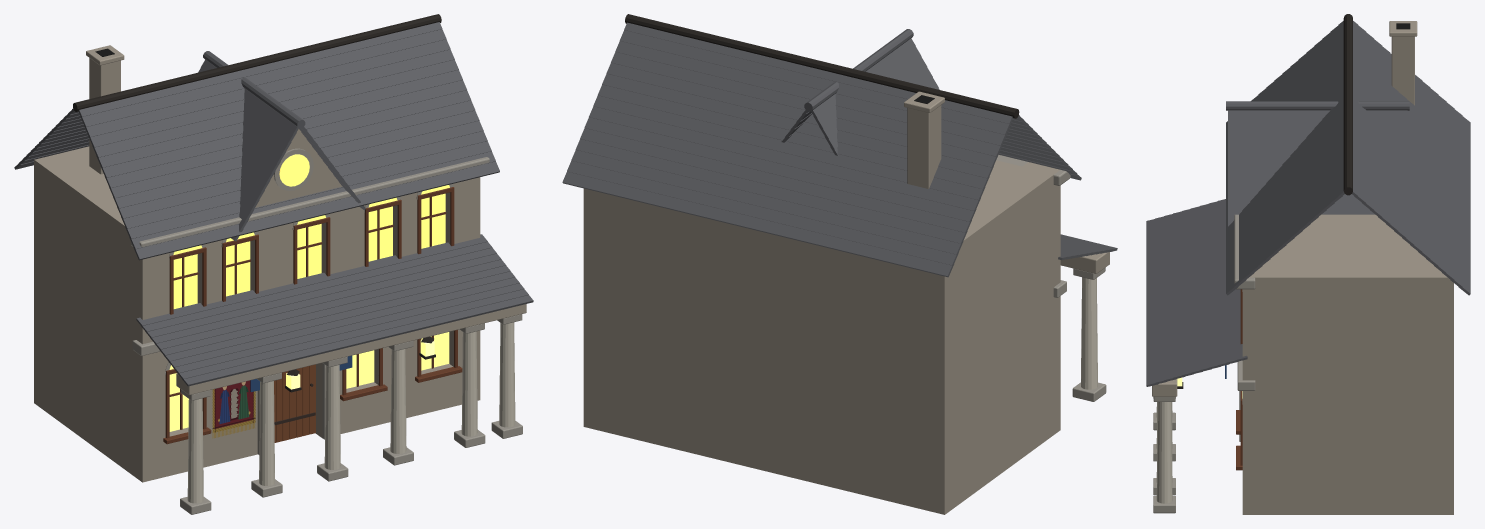
The model's file is concejo.glb.
3 renders of one model, left to right at view 1: azimuth 30°, elevation 25°; view 2: azimuth 150°, elevation 25°; view 3: azimuth 270°, elevation 25°, orthographic. The views are drawn at different scales.
Visible parts, largest first — view 1: conc_dentro, conc_tejado_s_0, conc_tejado_s_13, conc_tejado_s_12, conc_pb, conc_tejado_s_11, conc_tejado_s_10, conc_tejado_s_9, conc_tejado_s_8, conc_tejado_s_7, arquitrabe, conc_tejado_s_6 (+54 smaller); view 2: conc_dentro, conc_tejado_n_0, conc_tejado_n_5, conc_tejado_n_1, conc_tejado_n_3, conc_tejado_n_2, conc_tejado_n_4, conc_tejado_n_6, conc_tejado_n_7, conc_tejado_n_8, conc_tejado_n_13, conc_tejado_n_12 (+13 smaller); view 3: conc_dentro, conc_pb.011, conc_tejado_cumbrera, portico_tejado_7, portico_tejado_5, portico_tejado_6, conc_tejado_n_0, conc_tejado_n_1, conc_tejado_n_2, conc_tej_hastial_cumbrera, conc_tejado_n_3, conc_tejado_n_4 (+48 smaller).
Boxes of the visible parts, left/top/right/bottom form: conc_dentro: left=34, top=146, right=134, bottom=476; conc_tejado_s_0: left=133, top=161, right=499, bottom=260; conc_tejado_s_13: left=80, top=29, right=446, bottom=126; conc_tejado_s_12: left=84, top=39, right=450, bottom=137; conc_pb: left=135, top=351, right=168, bottom=482; conc_tejado_s_11: left=88, top=49, right=454, bottom=147; conc_tejado_s_10: left=92, top=59, right=458, bottom=157; conc_tejado_s_9: left=96, top=70, right=462, bottom=167; conc_tejado_s_8: left=100, top=80, right=466, bottom=177; conc_tejado_s_7: left=104, top=90, right=470, bottom=187; arquitrabe: left=176, top=304, right=526, bottom=395; conc_tejado_s_6: left=109, top=100, right=475, bottom=198; conc_dentro: left=583, top=162, right=1052, bottom=514; conc_tejado_n_0: left=562, top=171, right=954, bottom=277; conc_tejado_n_5: left=584, top=117, right=976, bottom=222; conc_tejado_n_1: left=567, top=160, right=958, bottom=265; conc_tejado_n_3: left=575, top=139, right=967, bottom=243; conc_tejado_n_2: left=571, top=150, right=962, bottom=254; conc_tejado_n_4: left=580, top=128, right=971, bottom=232; conc_tejado_n_6: left=589, top=106, right=980, bottom=210; conc_tejado_n_7: left=593, top=95, right=985, bottom=200; conc_tejado_n_8: left=598, top=84, right=989, bottom=189; conc_tejado_n_13: left=619, top=30, right=1011, bottom=134; conc_tejado_n_12: left=615, top=41, right=1007, bottom=146; conc_dentro: left=1257, top=214, right=1453, bottom=514; conc_pb.011: left=1242, top=384, right=1257, bottom=514; conc_tejado_cumbrera: left=1343, top=14, right=1352, bottom=195; portico_tejado_7: left=1208, top=201, right=1220, bottom=369; portico_tejado_5: left=1190, top=206, right=1202, bottom=373; portico_tejado_6: left=1199, top=204, right=1211, bottom=371; conc_tejado_n_0: left=1458, top=116, right=1470, bottom=295; conc_tejado_n_1: left=1450, top=109, right=1462, bottom=288; conc_tejado_n_2: left=1442, top=102, right=1454, bottom=280; conc_tej_hastial_cumbrera: left=1226, top=101, right=1409, bottom=110; conc_tejado_n_3: left=1434, top=95, right=1446, bottom=273; conc_tejado_n_4: left=1426, top=88, right=1438, bottom=266.
Size of the model in its own units: 9.7 by 9.13 by 7.68.
15 materials, 1 textured.
